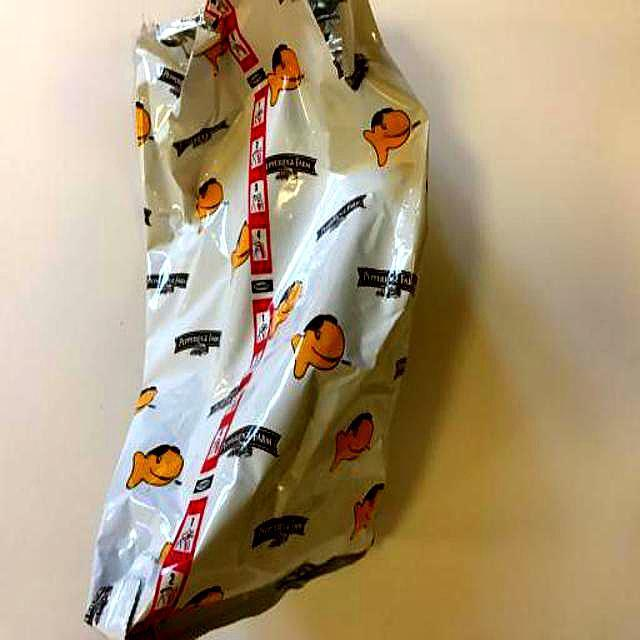Non-biodegradable: (83, 2, 434, 638)
